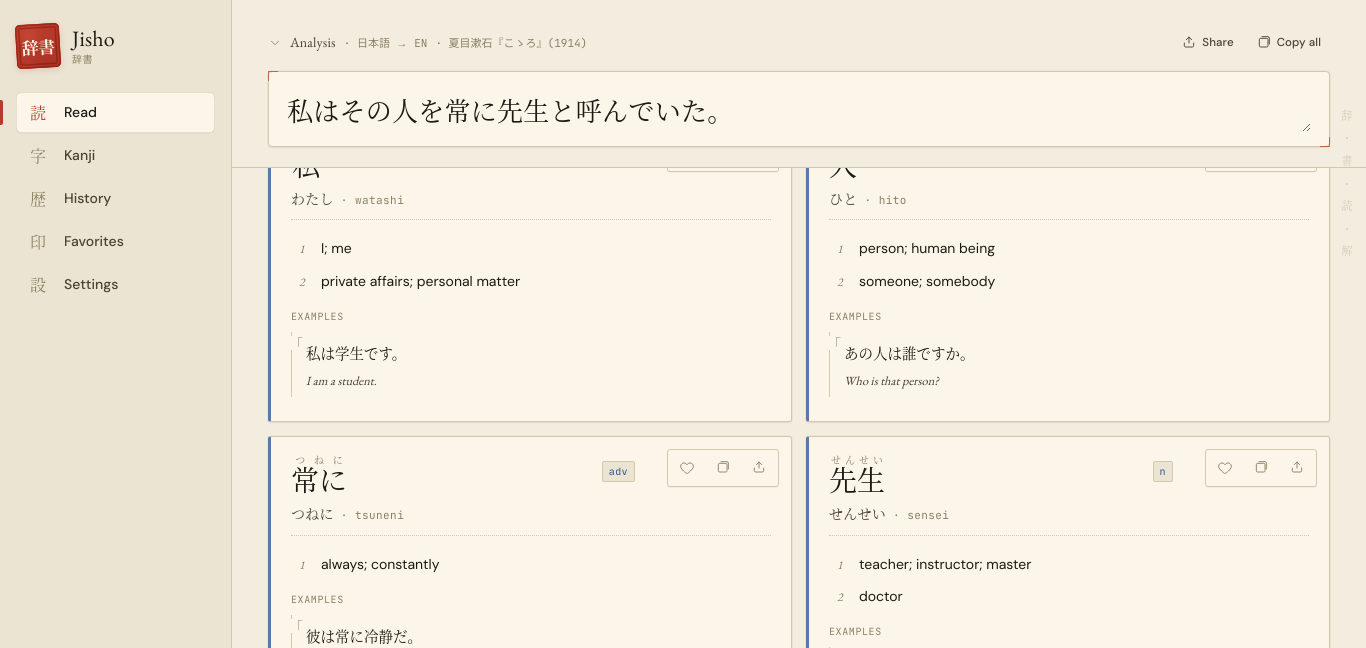
Test: Read screen › favoriting a card from the Read screen surfaces it under Favorites
(page scrolled)
What coordinates should you click on to do the following:
click the button named "add favorite" below "あの人は誰ですか。"
I would click on:
 (1225, 468)
Its box is [1208,452,1242,484].
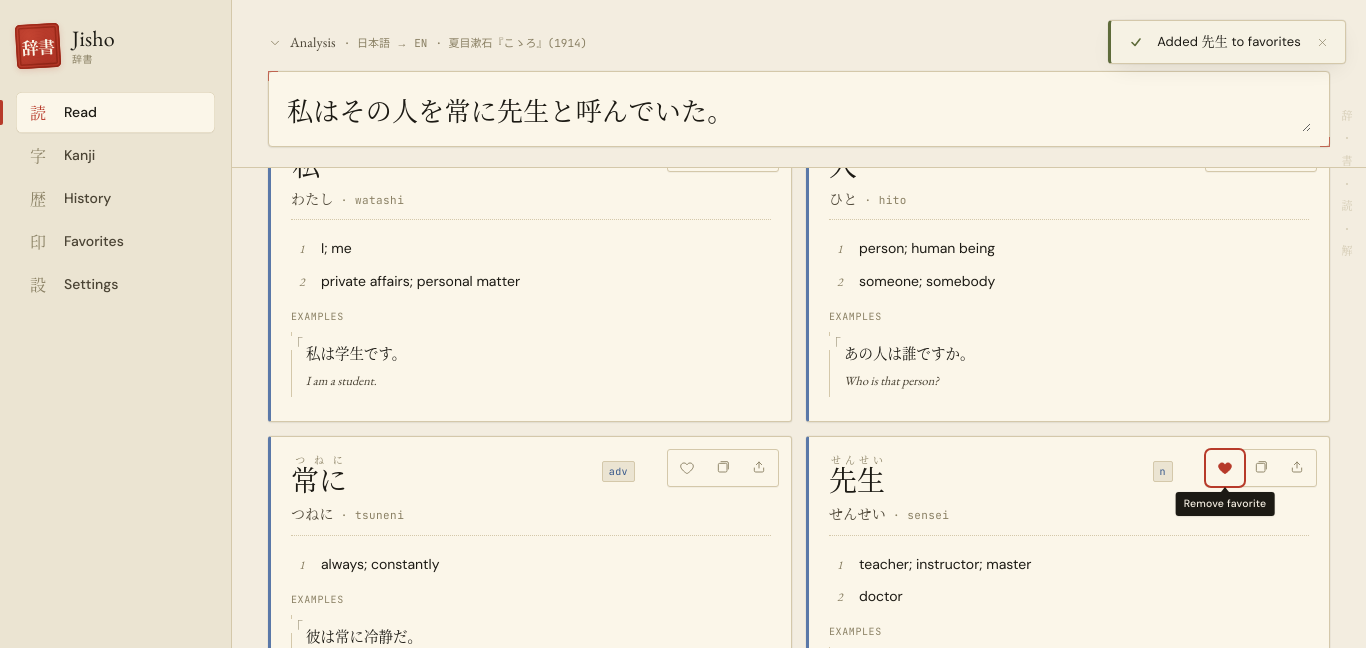
What coordinates should you click on to do the following:
click the button "印 Favorites"
I would click on:
 (116, 242)
Its box is [16,221,215,262].
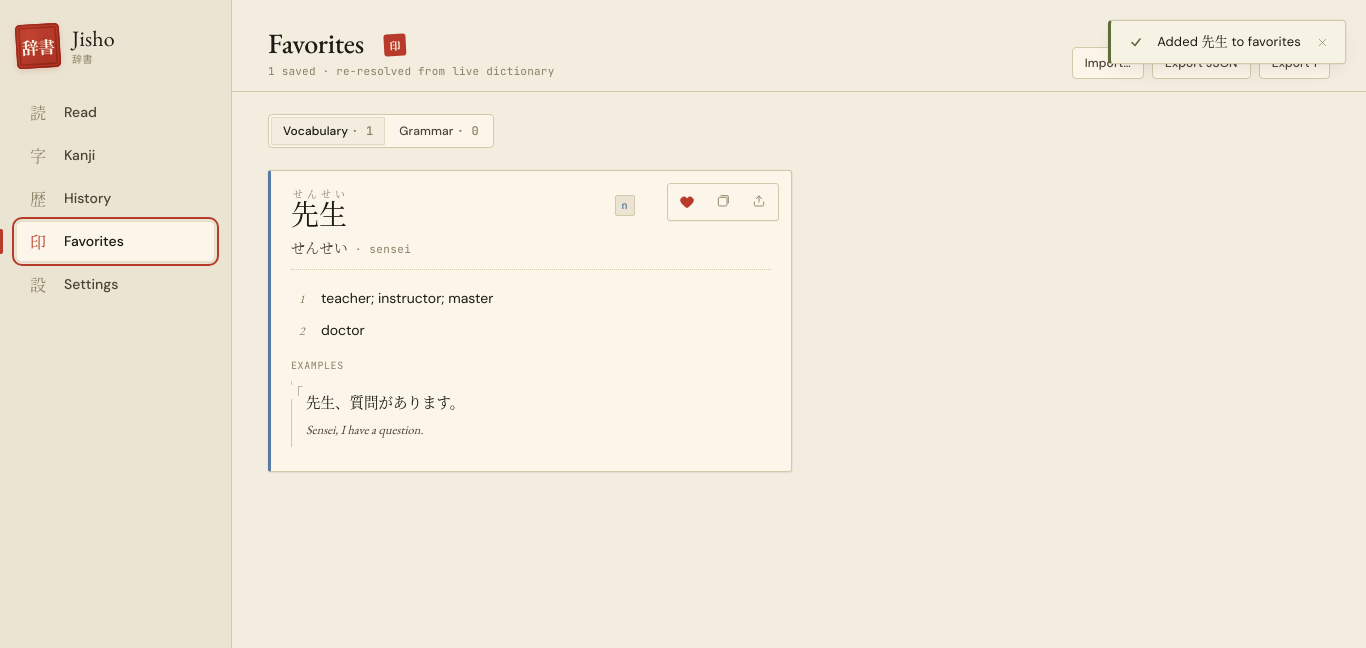
Expected: the heading "Favorites 印" is shown, [268,25,406,61]
